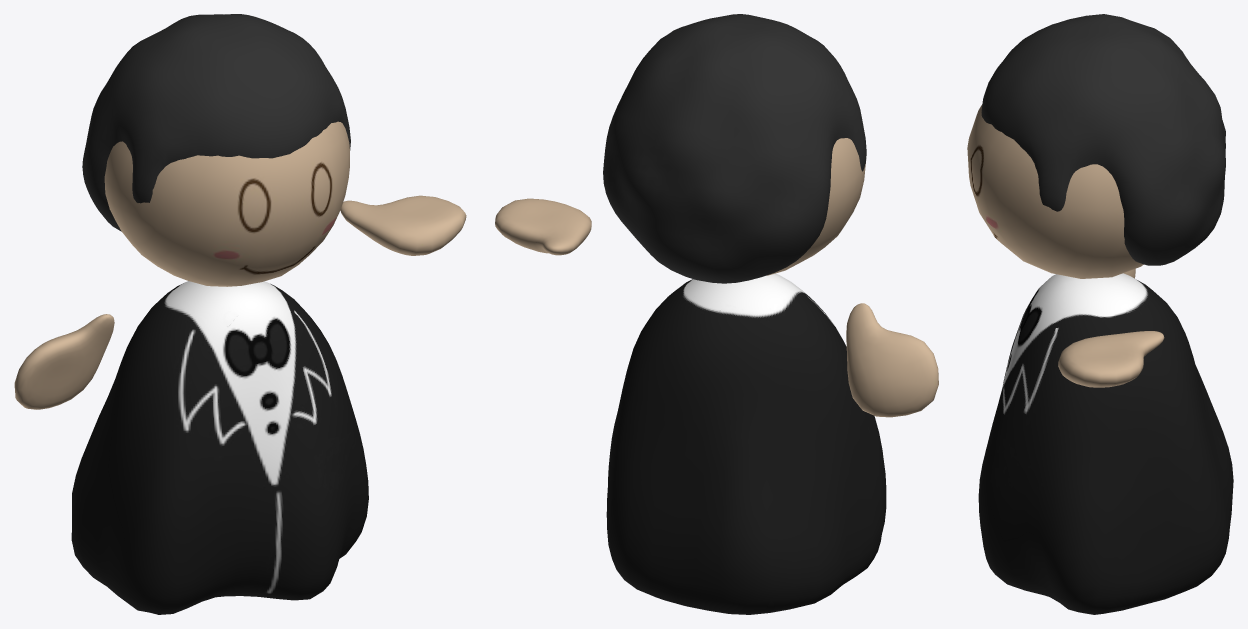
File: player_2.gltf
The picture shows the model from 3 angles, left to right: view 1: azimuth 30°, elevation 25°; view 2: azimuth 150°, elevation 25°; view 3: azimuth 270°, elevation 25°; orthographic projection. The views are drawn at different scales.
Visible parts, largest first — view 1: player_2; view 2: player_2; view 3: player_2.
Part boxes in pixels (left/top/right/bottom): player_2: left=14, top=14, right=466, bottom=614; player_2: left=495, top=14, right=938, bottom=614; player_2: left=967, top=14, right=1233, bottom=614.
Size of the model in its own units: 2.07 by 2.46 by 1.1.
Materials: 1 (1 with a texture image).
